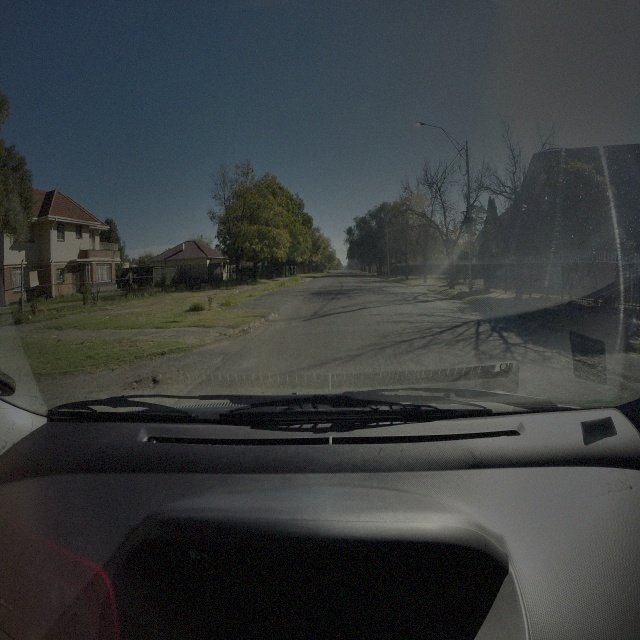pothole: (127, 375, 160, 389)
